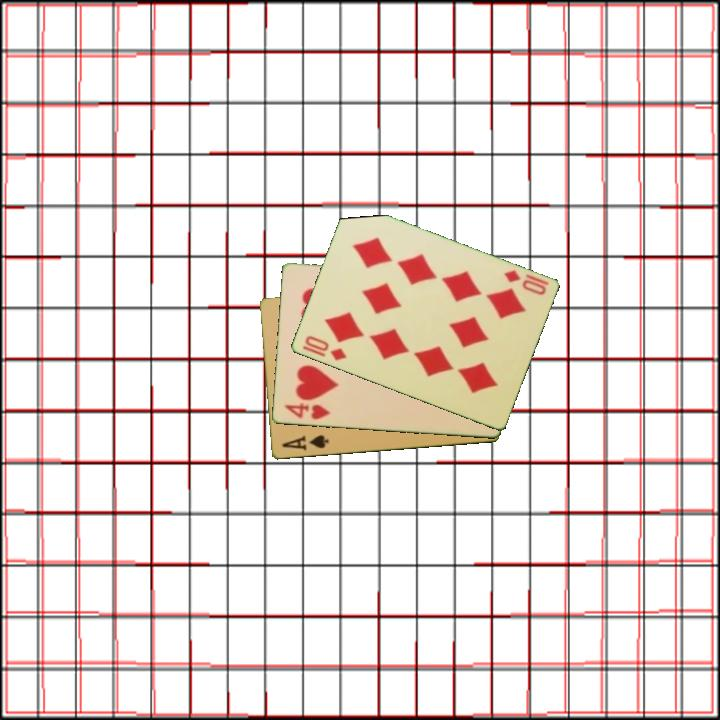10d: (500, 266, 549, 298), (301, 332, 349, 364)
4h: (280, 400, 333, 423)
As: (278, 432, 331, 454)
